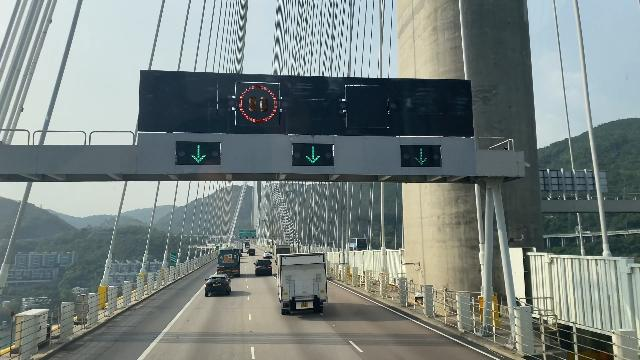car: (203, 274, 233, 298), (252, 257, 272, 276)
truck: (276, 253, 331, 317), (218, 248, 241, 277), (234, 241, 244, 248), (245, 241, 250, 246)
van: (249, 248, 255, 257), (245, 246, 249, 250)
